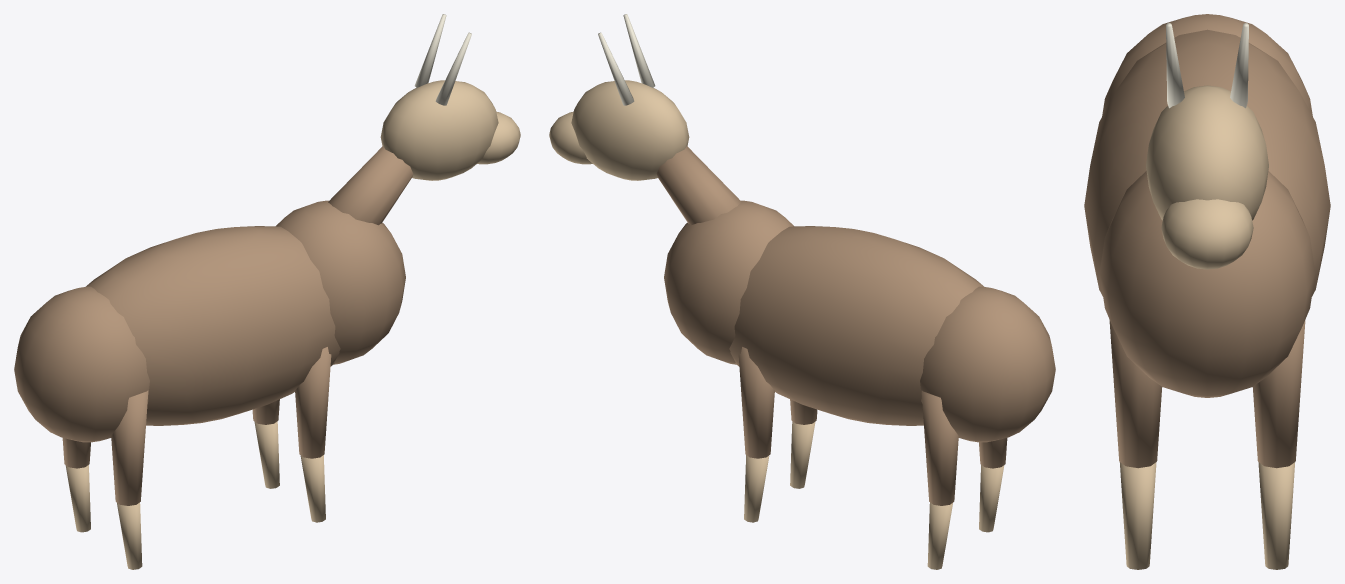
Rendered from grazer.glb.
The picture shows the model from 3 angles, left to right: view 1: azimuth 30°, elevation 25°; view 2: azimuth 150°, elevation 25°; view 3: azimuth 270°, elevation 25°; orthographic projection. The views are drawn at different scales.
Parts seen in each view (by area): view 1: body, hip, chest, head, neck, leg_upper_0, leg_upper_2, leg_lower_2, leg_lower_0, leg_lower_3, leg_lower_1, muzzle (+3 smaller); view 2: body, hip, chest, head, neck, leg_upper_1, leg_upper_3, leg_lower_3, leg_lower_1, leg_lower_2, leg_lower_0, muzzle (+3 smaller); view 3: chest, body, head, muzzle, leg_upper_2, leg_upper_3, hip, leg_lower_2, leg_lower_3, horn_-1, horn_1.
Part boxes in pixels (left/top/right/bottom): body: left=85, top=226, right=340, bottom=425; hip: left=14, top=286, right=149, bottom=442; chest: left=276, top=200, right=405, bottom=364; head: left=380, top=80, right=498, bottom=180; neck: left=328, top=146, right=413, bottom=225; leg_upper_0: left=111, top=390, right=148, bottom=505; leg_upper_2: left=295, top=347, right=331, bottom=458; leg_lower_2: left=300, top=455, right=325, bottom=522; leg_lower_0: left=117, top=502, right=142, bottom=569; leg_lower_3: left=254, top=421, right=279, bottom=488; leg_lower_1: left=65, top=465, right=90, bottom=532; muzzle: left=477, top=111, right=520, bottom=164; body: left=729, top=226, right=984, bottom=425; hip: left=920, top=286, right=1055, bottom=442; chest: left=664, top=200, right=793, bottom=364; head: left=571, top=80, right=689, bottom=180; neck: left=656, top=146, right=741, bottom=225; leg_upper_1: left=921, top=390, right=958, bottom=505; leg_upper_3: left=738, top=347, right=774, bottom=458; leg_lower_3: left=744, top=455, right=769, bottom=522; leg_lower_1: left=927, top=502, right=952, bottom=569; leg_lower_2: left=790, top=421, right=815, bottom=488; leg_lower_0: left=979, top=465, right=1004, bottom=532; muzzle: left=549, top=111, right=592, bottom=164; chest: left=1099, top=171, right=1315, bottom=397; body: left=1084, top=29, right=1330, bottom=296; head: left=1146, top=85, right=1268, bottom=220; muzzle: left=1161, top=199, right=1253, bottom=269; leg_upper_2: left=1109, top=320, right=1162, bottom=468; leg_upper_3: left=1252, top=320, right=1305, bottom=468; hip: left=1102, top=14, right=1312, bottom=116; leg_lower_2: left=1119, top=462, right=1156, bottom=569; leg_lower_3: left=1258, top=462, right=1295, bottom=569; horn_-1: left=1166, top=23, right=1184, bottom=108; horn_1: left=1230, top=23, right=1248, bottom=108.
Bounding box in the file's own units: 2.23 × 1.9 × 0.64.
